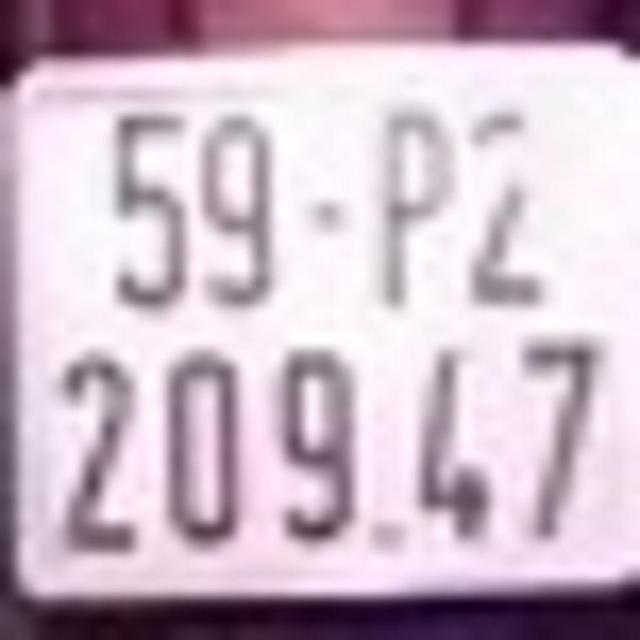0: (164, 346, 248, 543)
2: (56, 352, 144, 558), (468, 104, 548, 303)
4: (414, 329, 494, 545)
5: (108, 107, 192, 312)
7: (502, 323, 600, 543)
9: (196, 108, 280, 320), (277, 339, 359, 546)
P: (370, 100, 458, 316)
